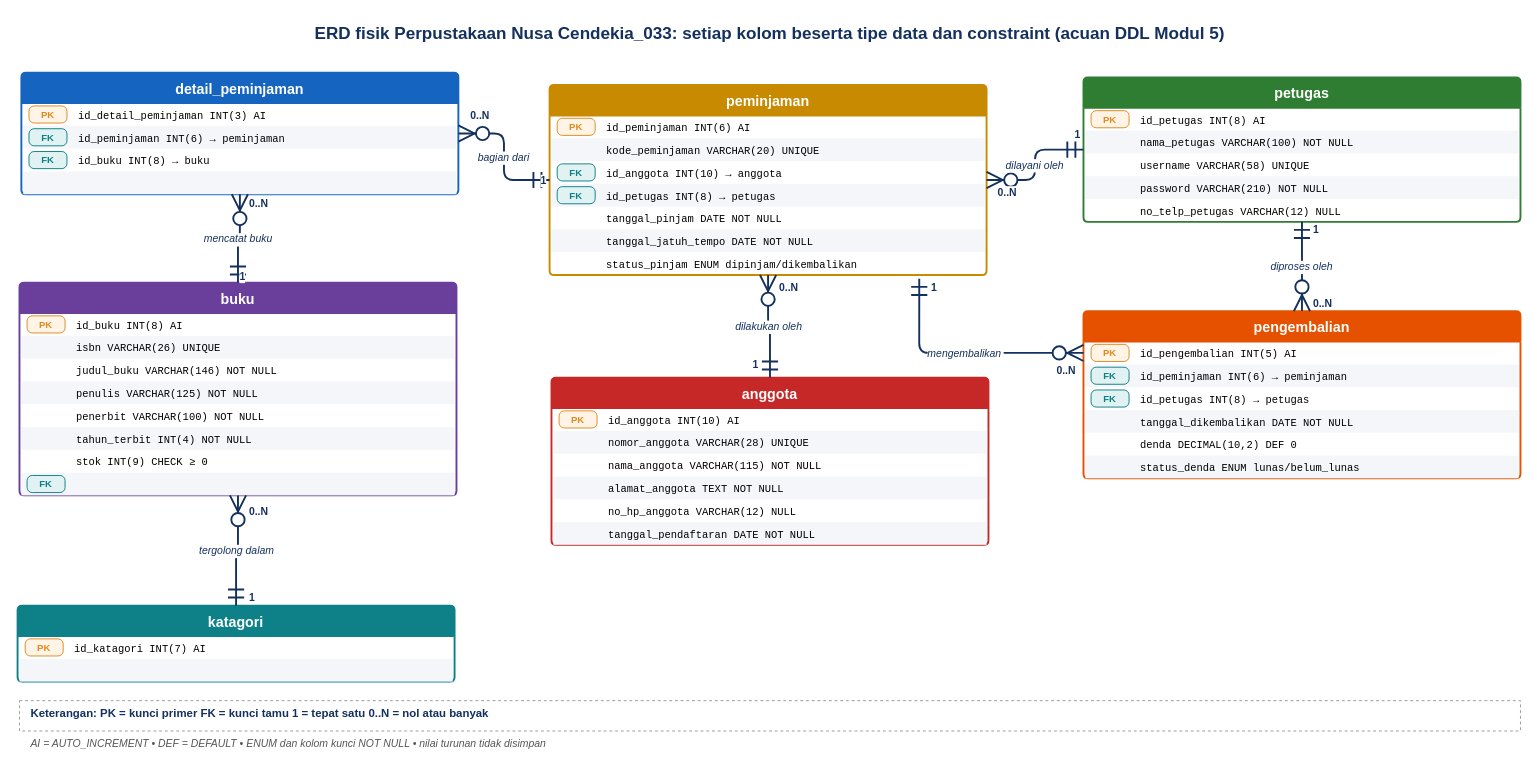
The diagram is 1537 pixels wide and 771 high, and some of its shapes have lost their labels. Here are the shapes that lost their labels. From the top down, the box of each, then its label:
(23, 171, 456, 194): jumlah INT(9) NOT NULL
(21, 472, 454, 495): id_katagori INT(7) → katagori
(19, 658, 452, 681): nama_katagori VARCHAR(56) NOT NULL
